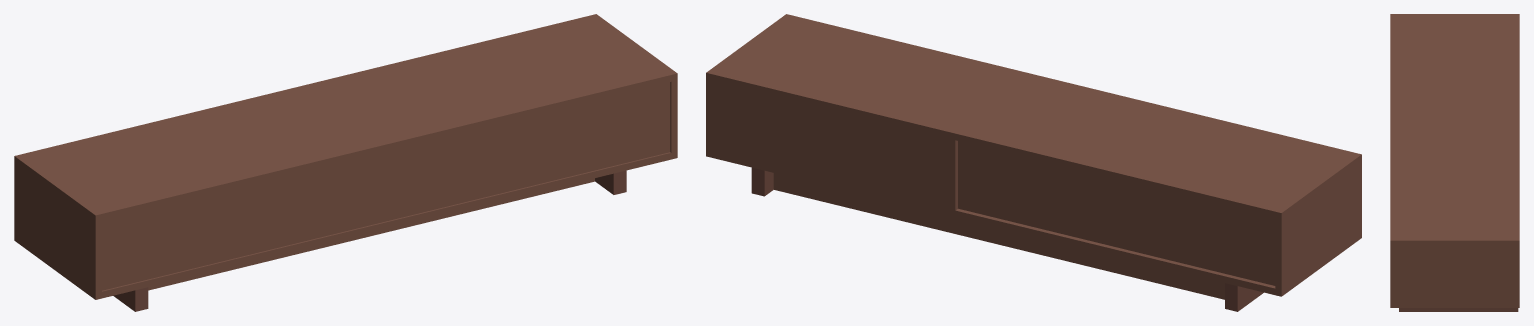
The picture shows the model from 3 angles, left to right: view 1: azimuth 30°, elevation 25°; view 2: azimuth 150°, elevation 25°; view 3: azimuth 270°, elevation 25°; orthographic projection. The views are drawn at different scales.
Visible parts, largest first — view 1: low_cabinet; view 2: low_cabinet; view 3: low_cabinet.
Boxes of the visible parts, x1,y1,x2,y2 form: low_cabinet: (14,14,677,311); low_cabinet: (706,14,1361,311); low_cabinet: (1390,14,1519,311).
Size of the model in its own units: 1.8 by 0.33 by 0.435.
